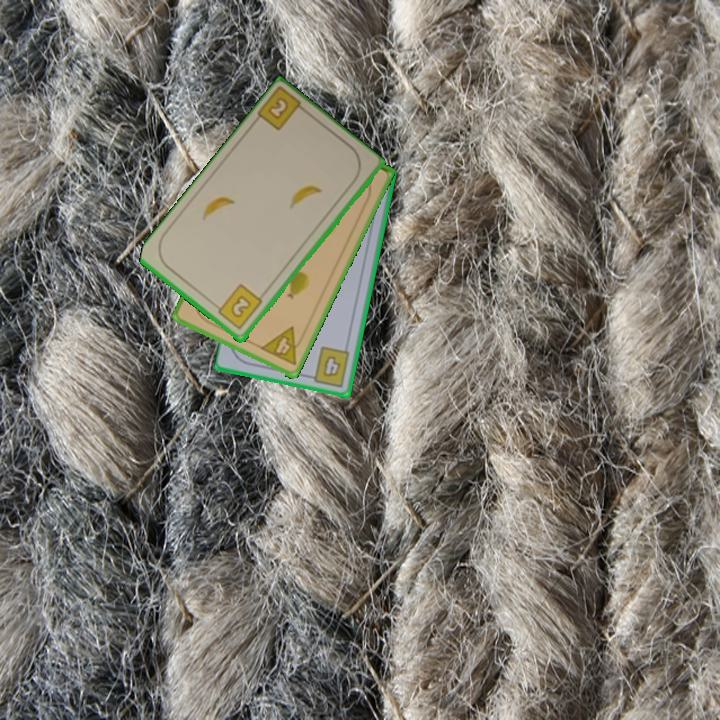2b: (211, 281, 265, 333), (254, 85, 311, 134)
4b: (304, 343, 353, 390)
4p: (257, 323, 308, 368)
